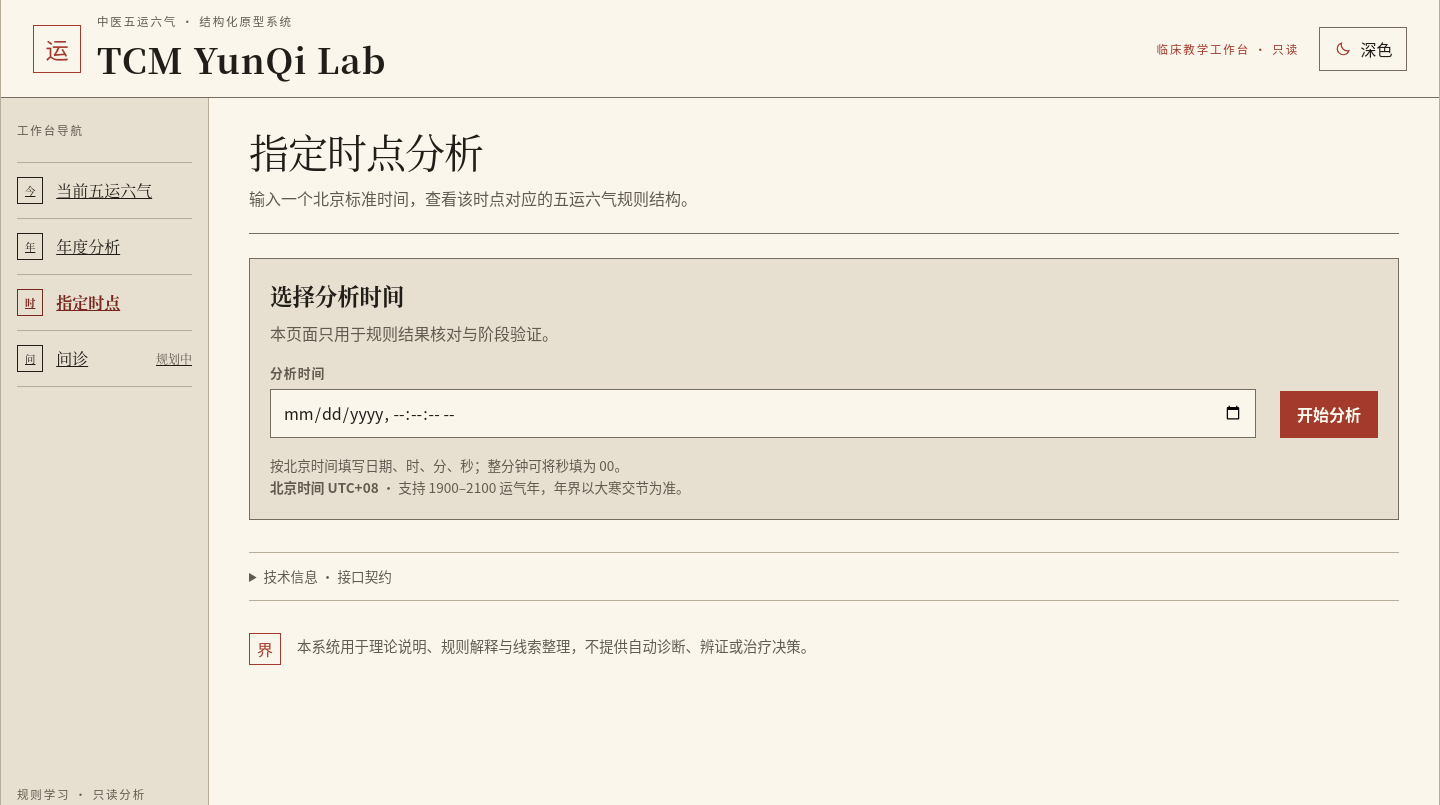
AppRoutes › submits one normalized request and renders the API canonical result
Type "2026-05-20T13:30" into the field labelled "分析时间". click: [763, 413]
box: [270, 389, 1256, 438]
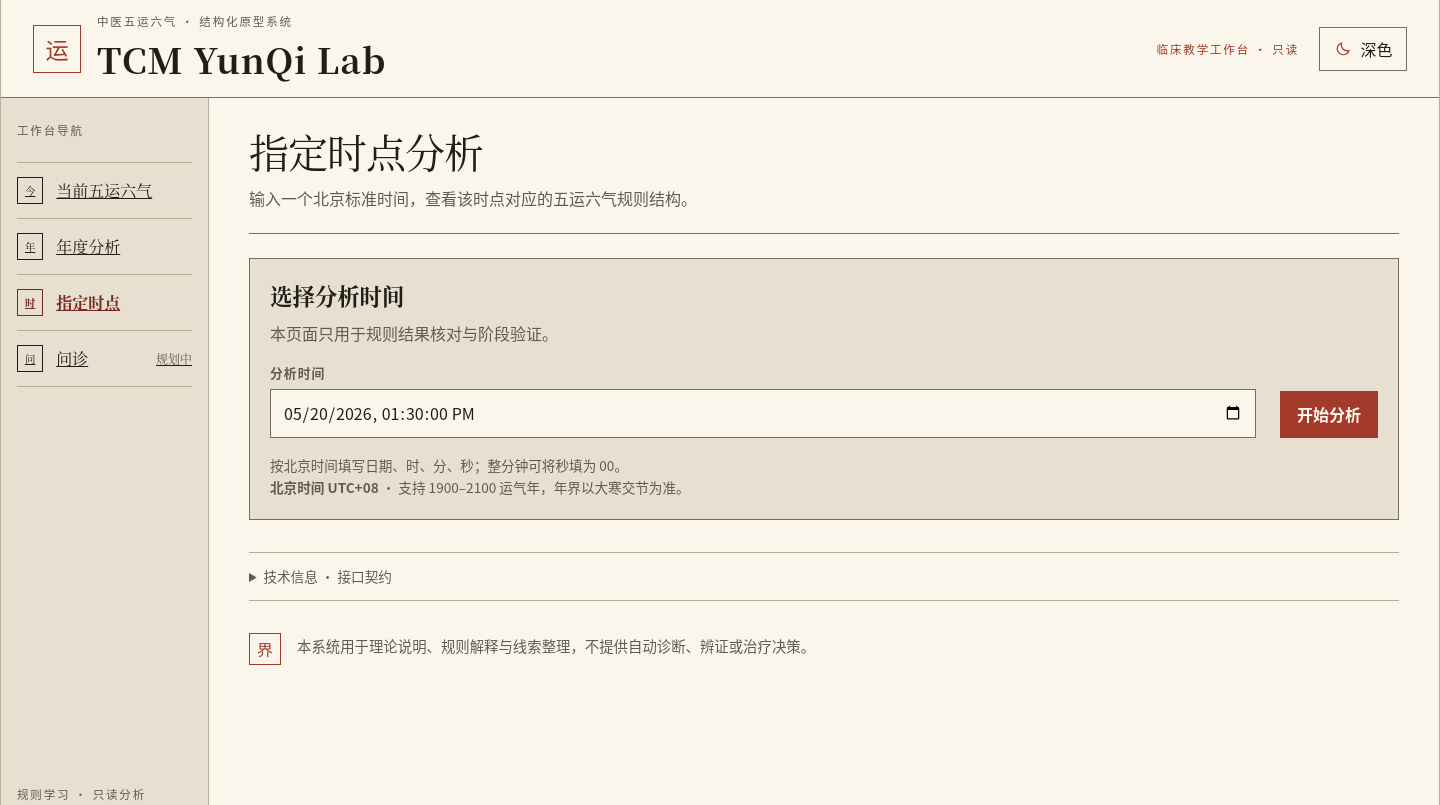
Submit the form named "指定时点分析表单", box [270, 363, 1378, 499]
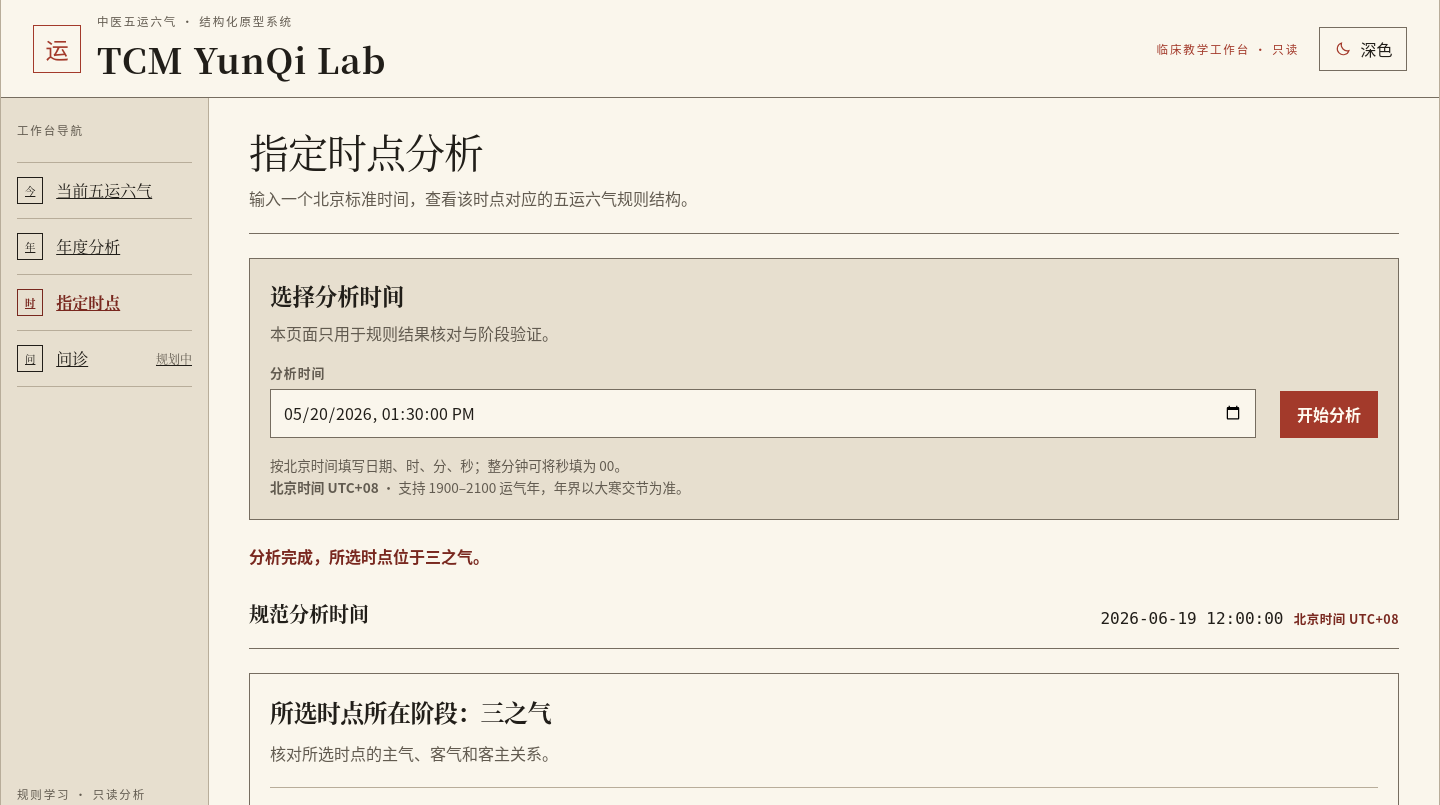
Check: the text "2026-06-19 12:00:00" is shown, box [1100, 609, 1283, 628]
